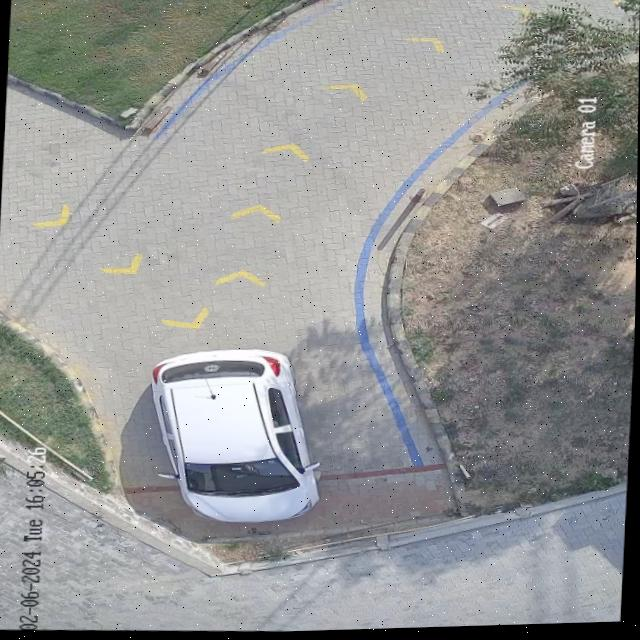car: (153, 349, 321, 522)
